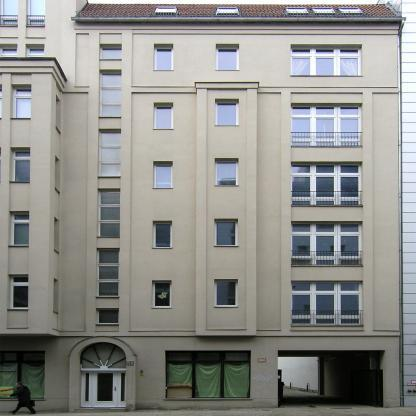Building Outline: (0, 0, 402, 412)
Door: (278, 351, 385, 408), (79, 371, 126, 408)
Facade: (59, 2, 402, 411)
Floor: (60, 210, 401, 266), (60, 91, 401, 147), (60, 270, 401, 325), (60, 151, 401, 205), (60, 35, 401, 87)
Floor Slab: (60, 30, 401, 34), (60, 326, 401, 330), (60, 266, 401, 270), (60, 206, 401, 210), (60, 147, 401, 151), (60, 87, 401, 91)
Ground Floor: (60, 329, 401, 410)
Roof: (76, 3, 401, 17)
Top Floor: (75, 4, 401, 30)
Window: (166, 351, 251, 399), (291, 221, 362, 265), (291, 281, 362, 324), (291, 103, 362, 146), (291, 162, 362, 205), (291, 44, 362, 75), (78, 342, 126, 369), (98, 189, 120, 237), (97, 248, 119, 296), (99, 129, 121, 176), (99, 70, 121, 115), (216, 99, 239, 126), (215, 279, 238, 306), (215, 219, 238, 246), (215, 158, 238, 185), (216, 44, 239, 70), (153, 161, 173, 188), (152, 280, 172, 307), (154, 102, 173, 129), (154, 44, 173, 70), (153, 221, 172, 247), (96, 308, 119, 324), (100, 44, 122, 59), (340, 8, 361, 13), (314, 8, 334, 13), (288, 8, 306, 13), (157, 8, 176, 12), (219, 9, 236, 13)
